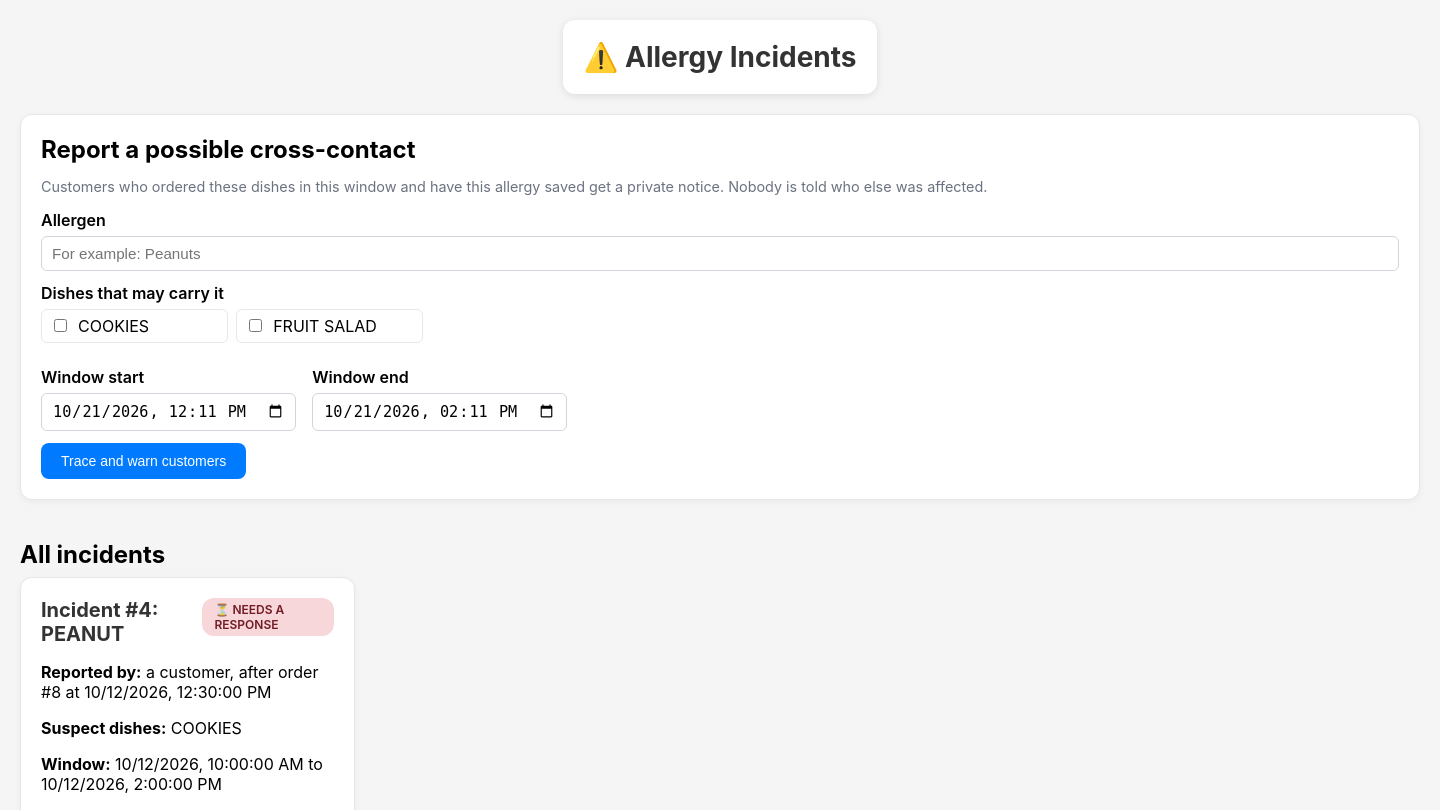
Test case: AllergyIncidents › requires at least one dish before reporting
In the field with placeholder "For example: Peanuts": (720, 253) [41,236,1399,271], type "Peanuts"
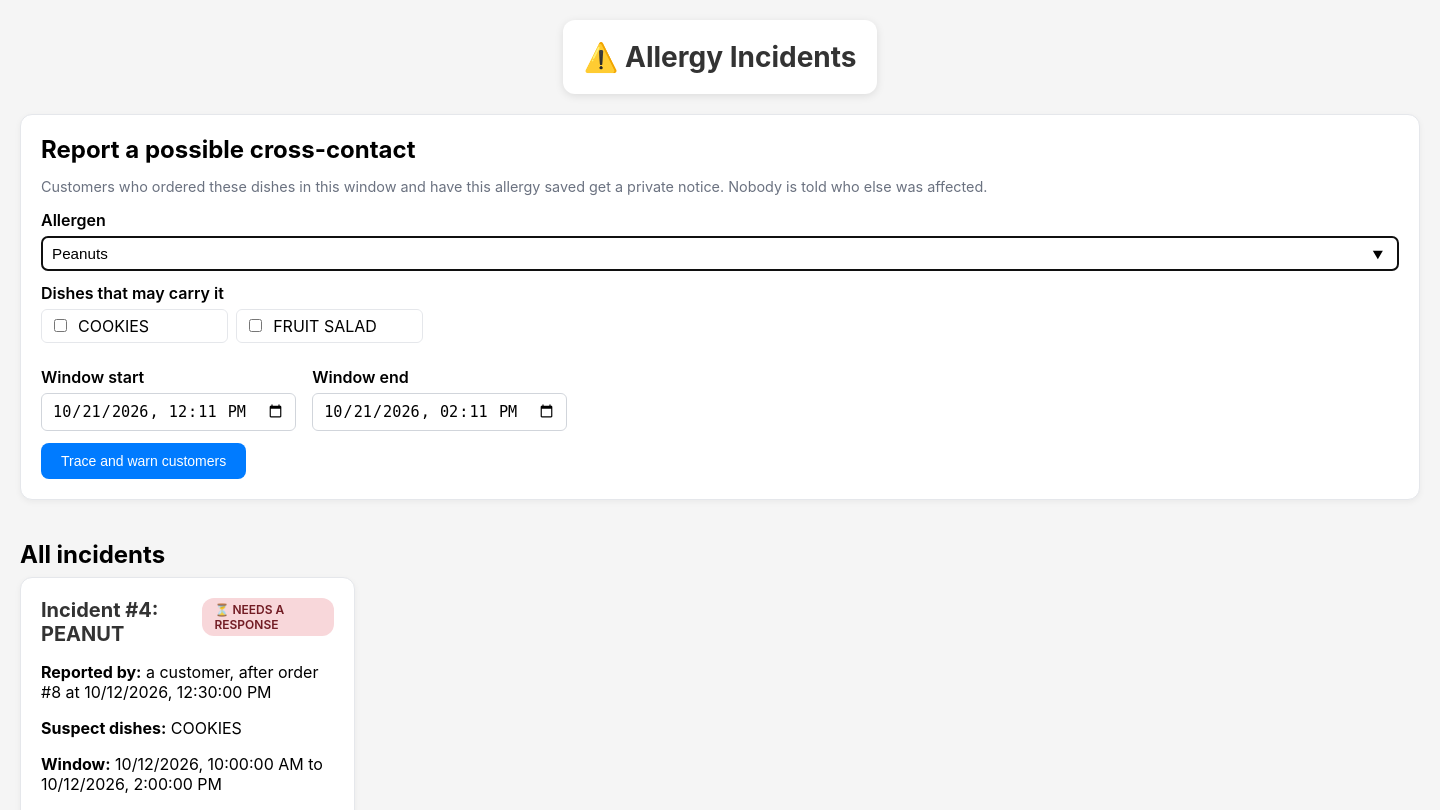
Click the button "Trace and warn customers": click(144, 461) [41,443,246,479]
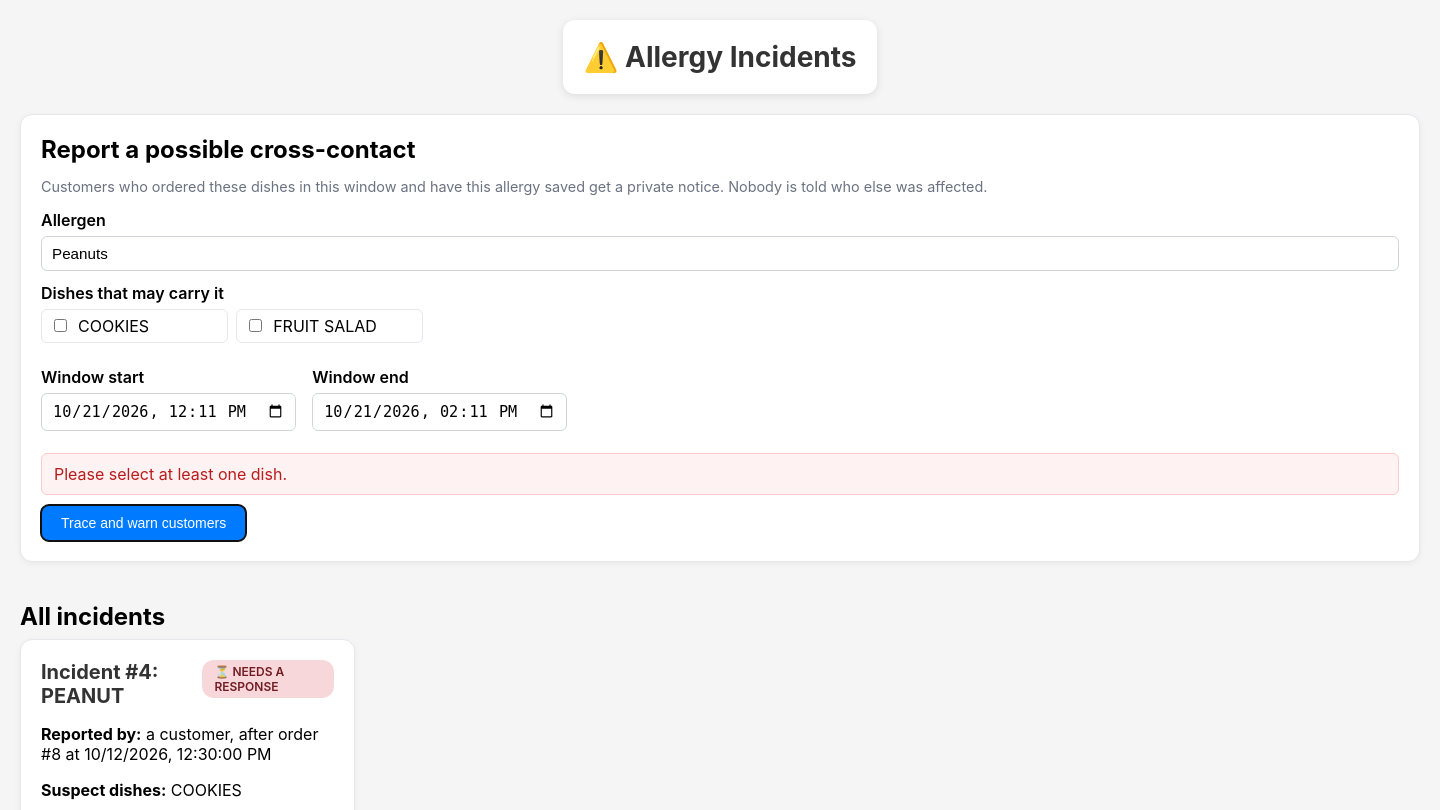
Expected: the text "Please select at least one dish." is shown, [41,453,1399,495]
